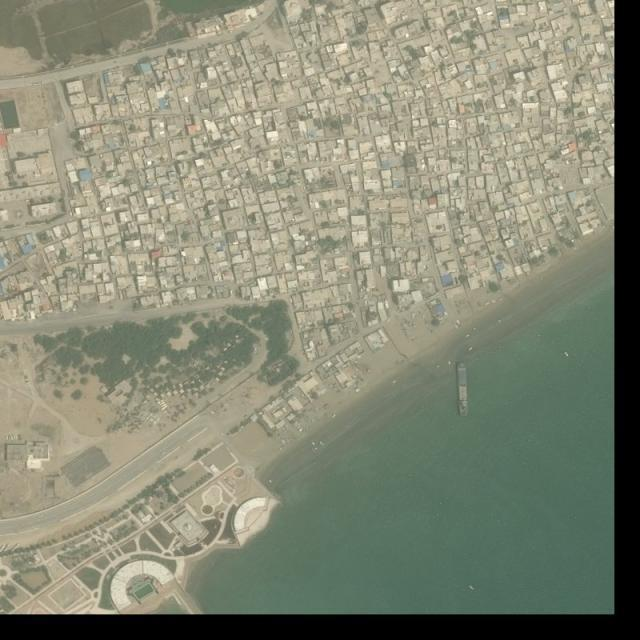ship: (454, 362, 469, 418), (468, 585, 475, 591), (564, 351, 570, 358)
